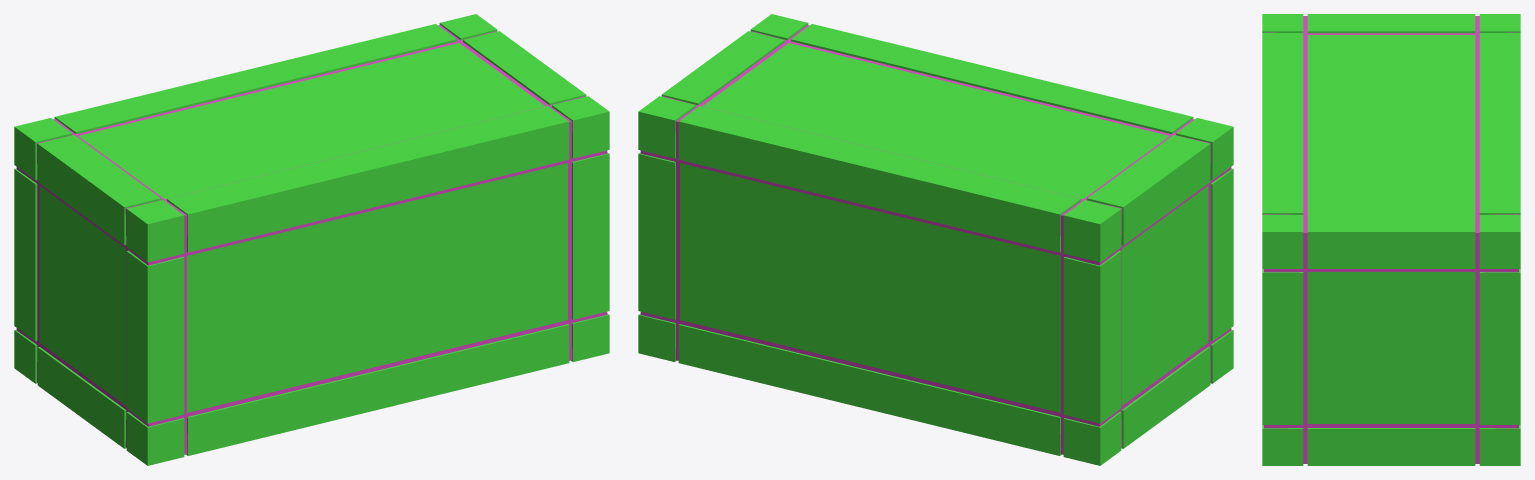
File: Vent_13_C.fbx
The picture shows the model from 3 angles, left to right: view 1: azimuth 30°, elevation 25°; view 2: azimuth 150°, elevation 25°; view 3: azimuth 270°, elevation 25°; orthographic projection. The views are drawn at different scales.
Parts seen in each view (by area): view 1: Vent_13_C; view 2: Vent_13_C; view 3: Vent_13_C.
Boxes of the visible parts, left/top/right/bottom form: Vent_13_C: left=14, top=14, right=609, bottom=465; Vent_13_C: left=638, top=14, right=1233, bottom=465; Vent_13_C: left=1262, top=14, right=1520, bottom=465.
Size of the model in its own units: 183 by 91.44 by 91.44.
